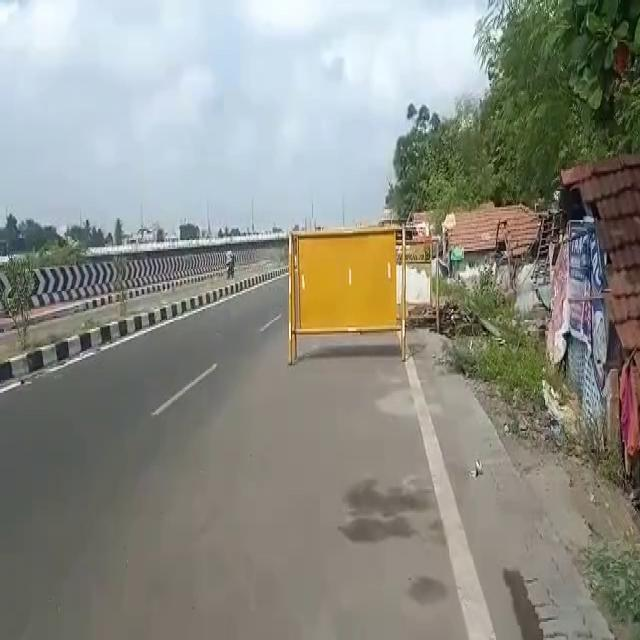fallen_object: (257, 223, 435, 369)
